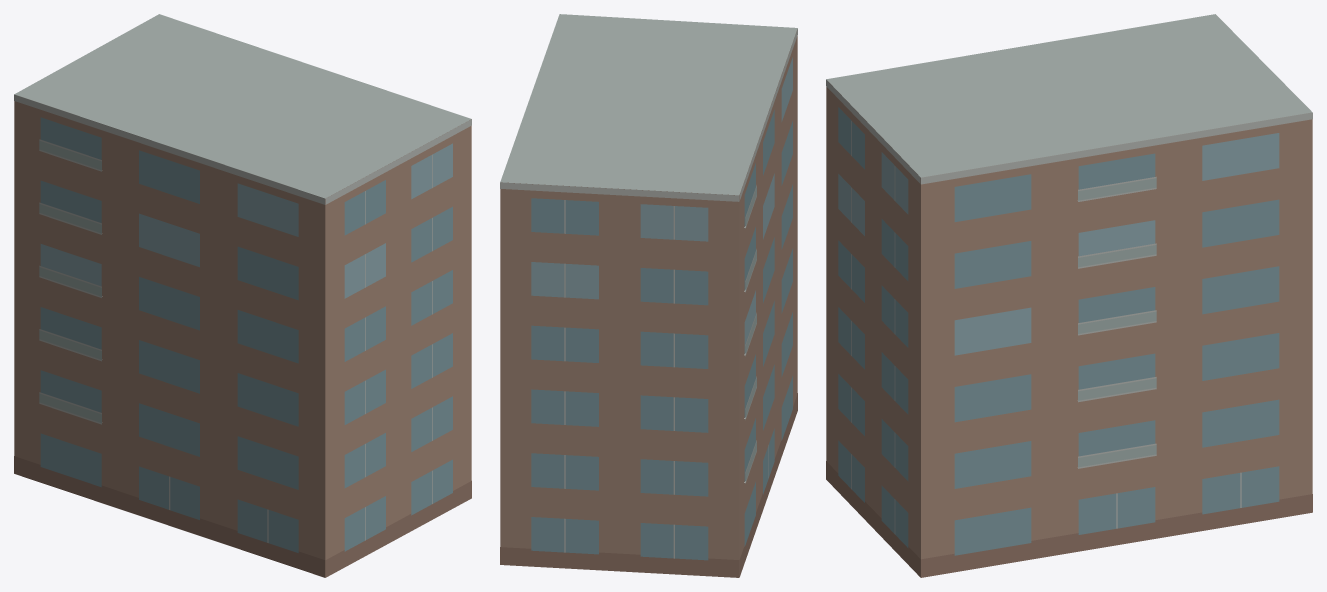
Rendered from survey-upis-32888485.glb.
3 renders of one model, left to right at view 1: azimuth 30°, elevation 25°; view 2: azimuth 150°, elevation 25°; view 3: azimuth 270°, elevation 25°, orthographic. The views are drawn at different scales.
Parts seen in each view (by area): view 1: survey-upis-32888485.tmp; view 2: survey-upis-32888485.tmp; view 3: survey-upis-32888485.tmp.
Boxes of the visible parts, box(x1,y1,x2,y2) form: survey-upis-32888485.tmp: box(14, 14, 471, 577); survey-upis-32888485.tmp: box(500, 14, 797, 577); survey-upis-32888485.tmp: box(826, 14, 1312, 577).
Size of the model in its own units: 12.56 by 14.3 by 15.77.
